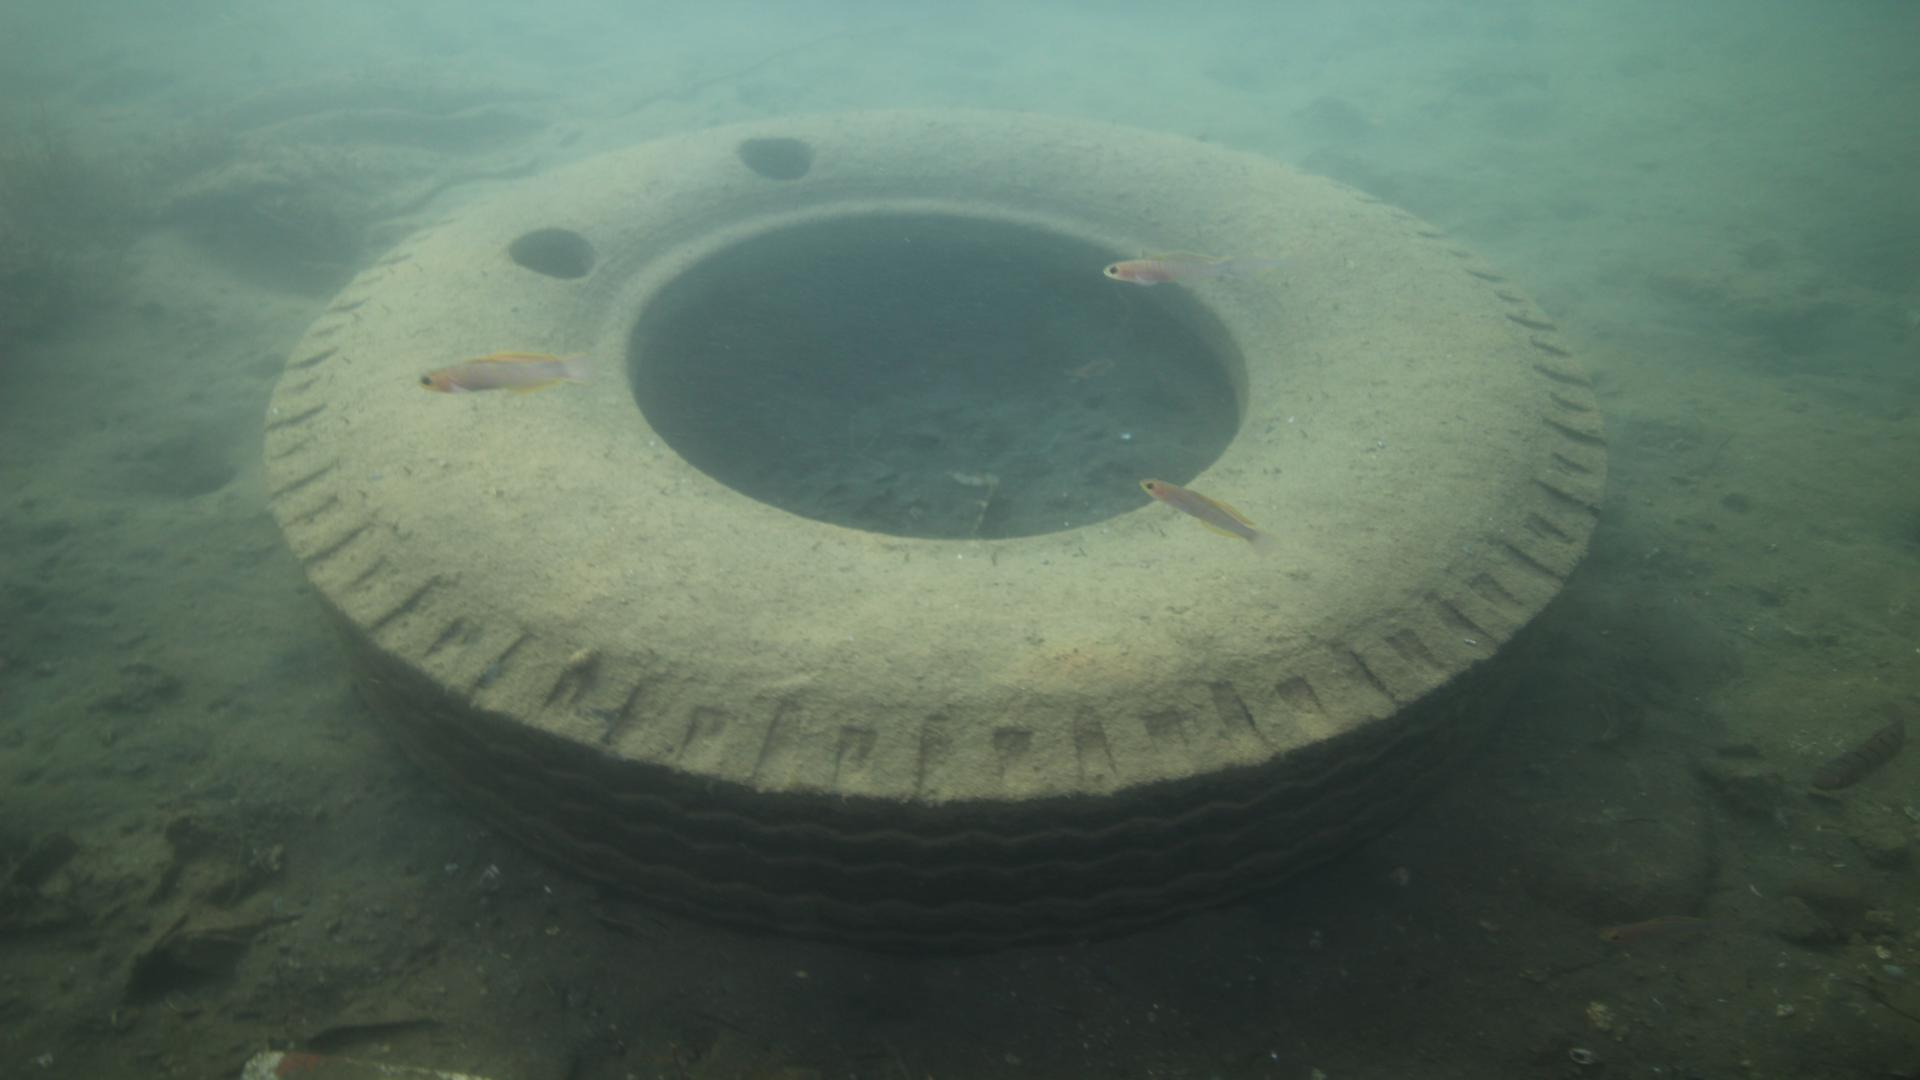tire: (258, 105, 1610, 963)
